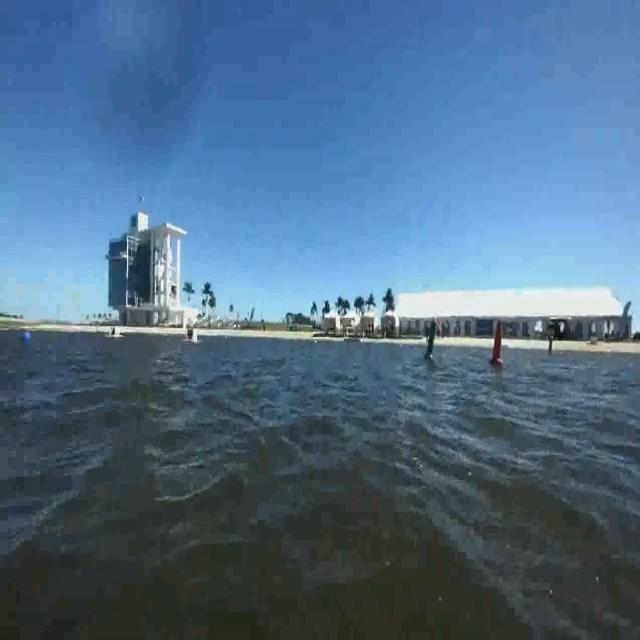blue-buoy: (22, 328, 33, 344)
green-column-buoy: (422, 314, 440, 369)
red-column-buoy: (489, 323, 506, 368)
